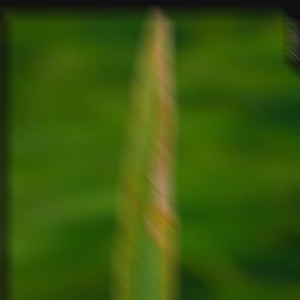Leaf_Blast: (113, 15, 179, 300)
